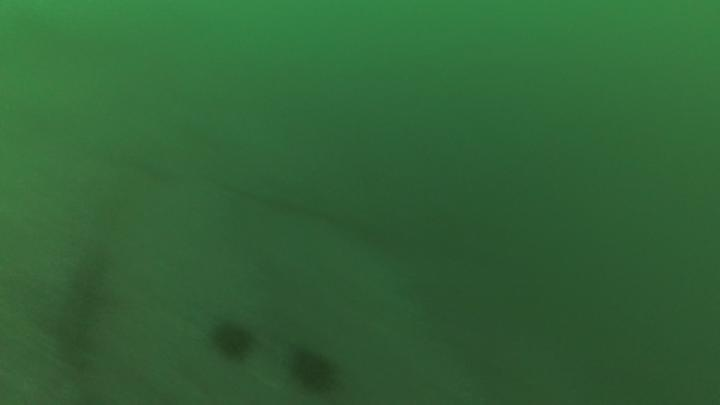echinus: (287, 345, 341, 396), (209, 318, 256, 363)
